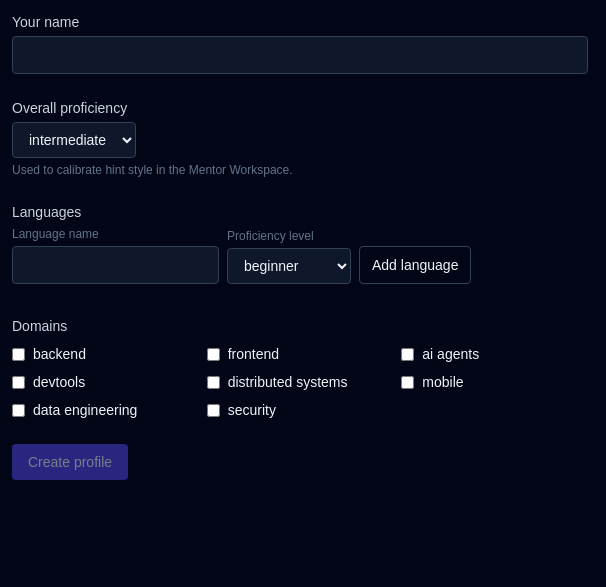
Test: ProfileForm › shows a readable error message when the request fails
Step 1. Type "Ada Lovelace" into the field labelled "Your name" → {"x": 300, "y": 55}, box [12, 36, 588, 74]
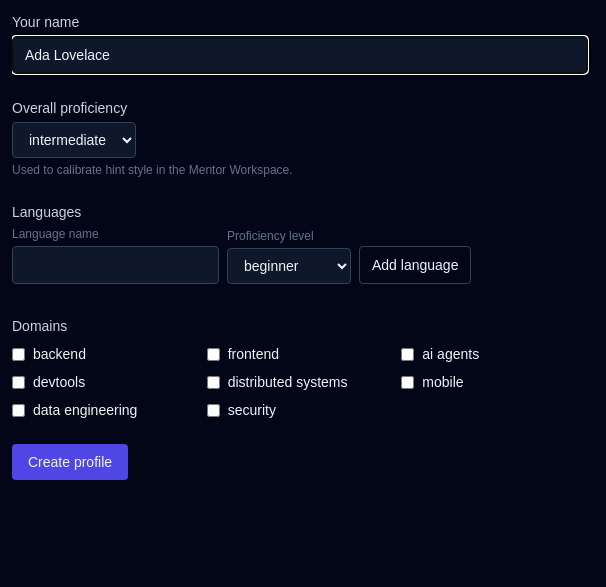
Step 2. Type "Python" into the field labelled "Language name" → {"x": 116, "y": 265}, box [12, 246, 219, 284]
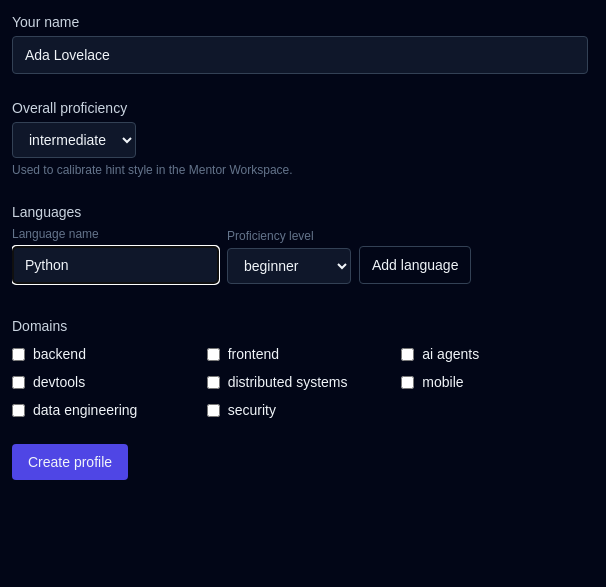
Step 3. Select "advanced" in the dropdown labelled "Proficiency level" → {"x": 289, "y": 266}, box [227, 248, 351, 284]
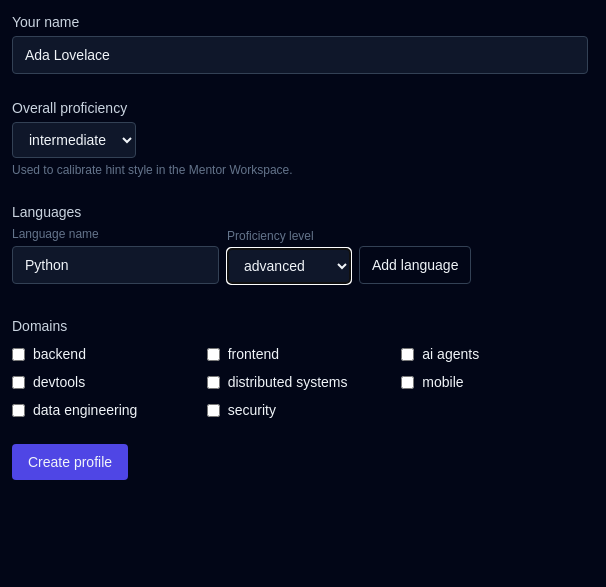
Step 4. Click the button "Add language" → {"x": 415, "y": 265}, box [359, 246, 471, 284]
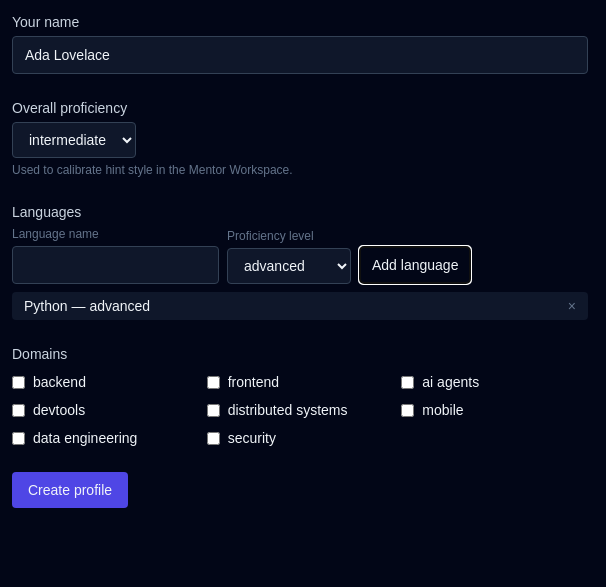
Step 5. Click the checkbox labelled "backend" → {"x": 18, "y": 382}, box [12, 376, 25, 388]
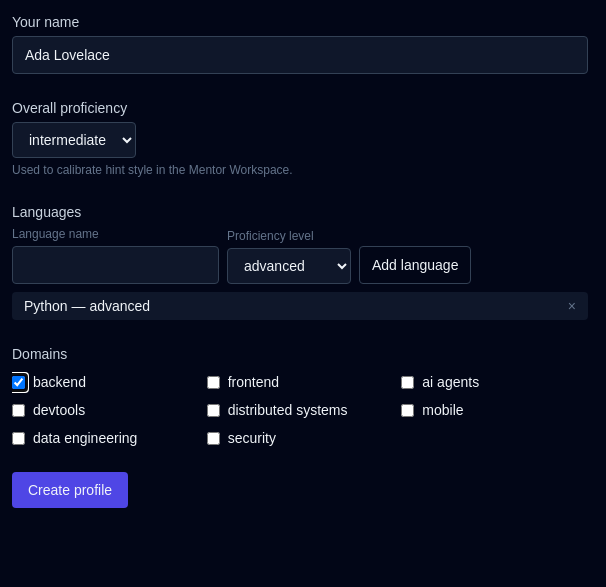
Step 6. Click the button "Create profile" → {"x": 70, "y": 490}, box [12, 472, 128, 508]
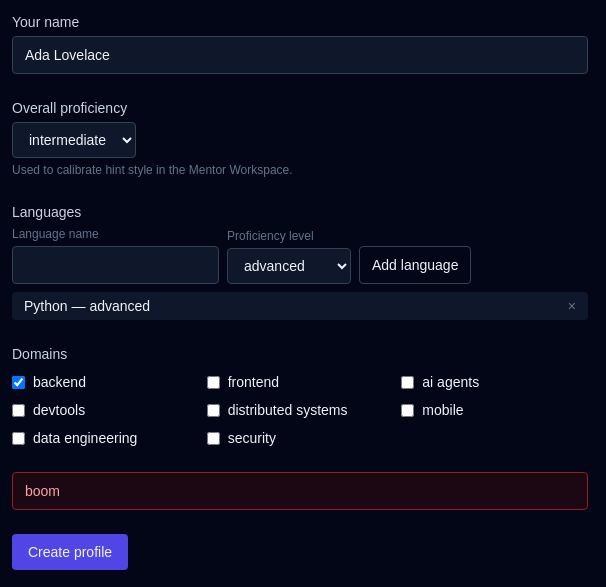
Result: the message reads "boom" at [25, 483, 60, 499]
